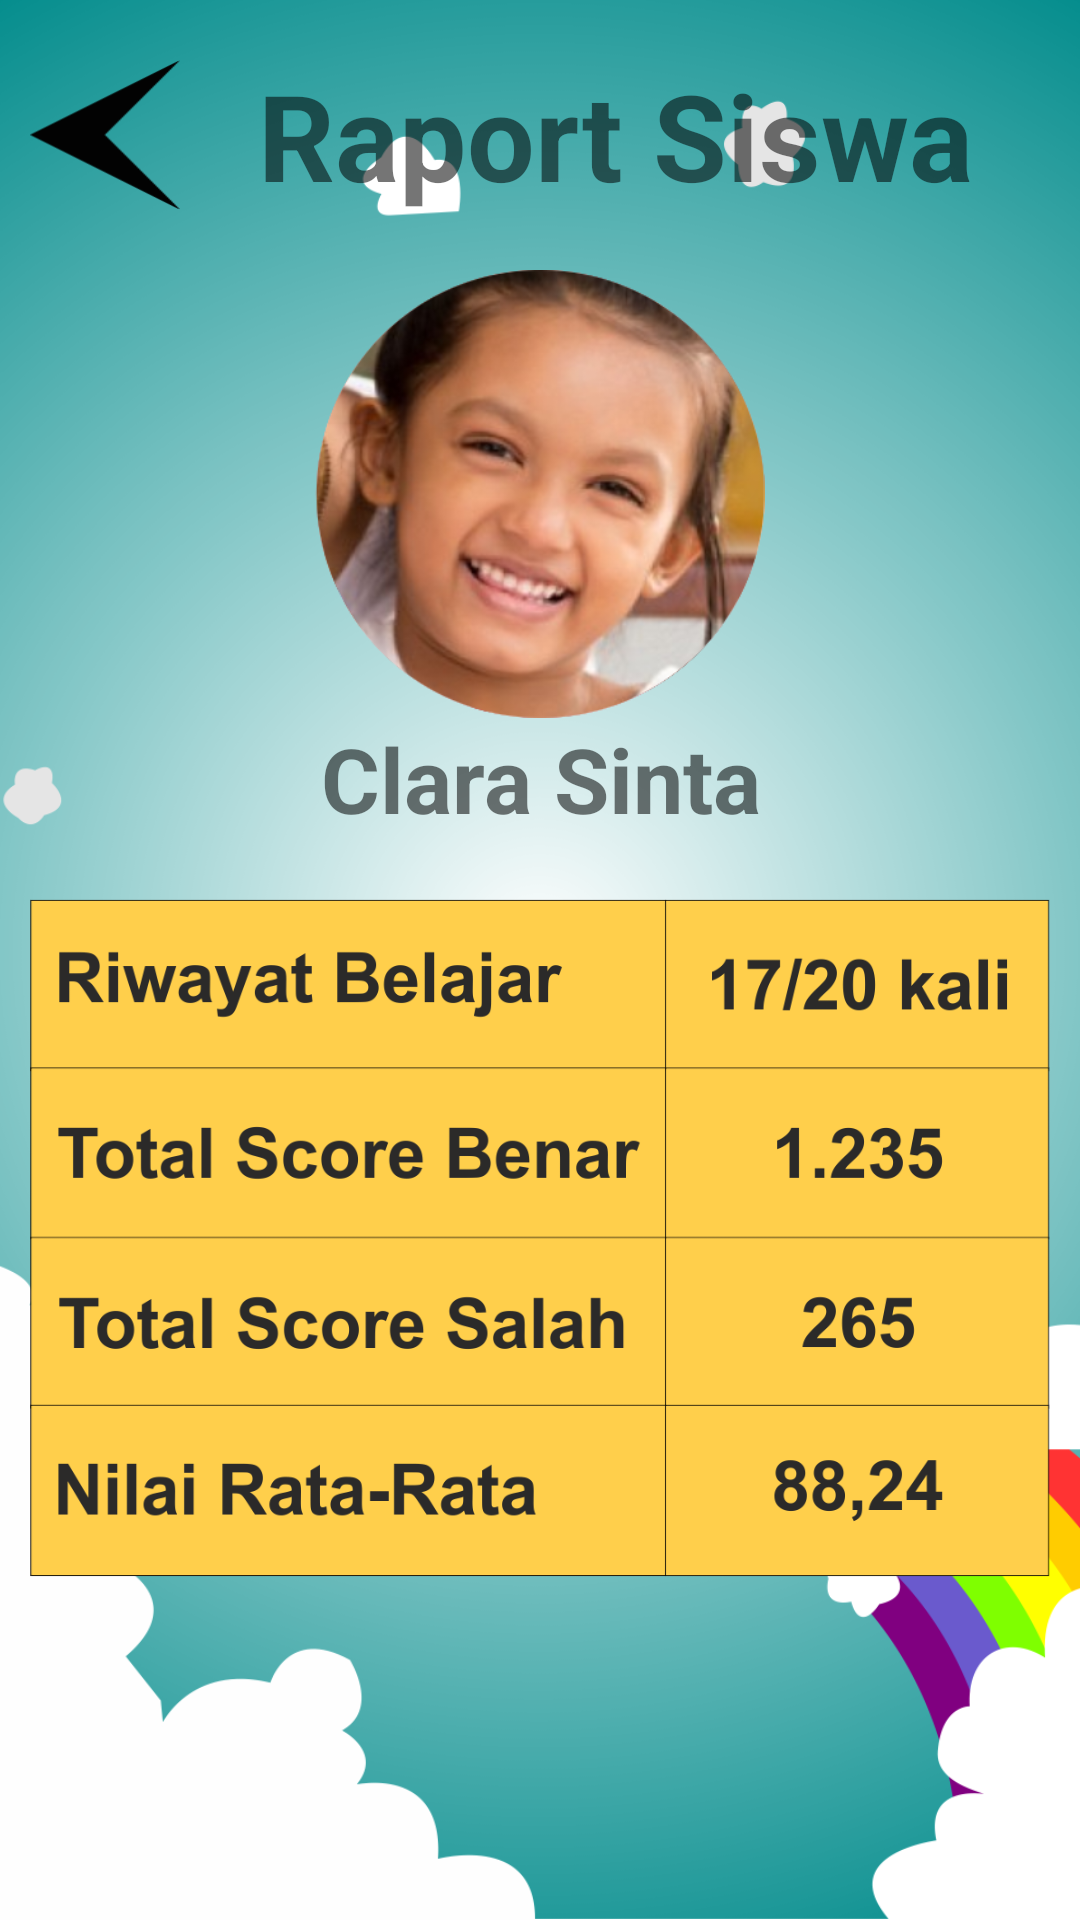

Screen size 1080w x 1920h. Icon name, then its box in pixels as (x1, y1, x2, y2):
back: (30, 60, 180, 209)
